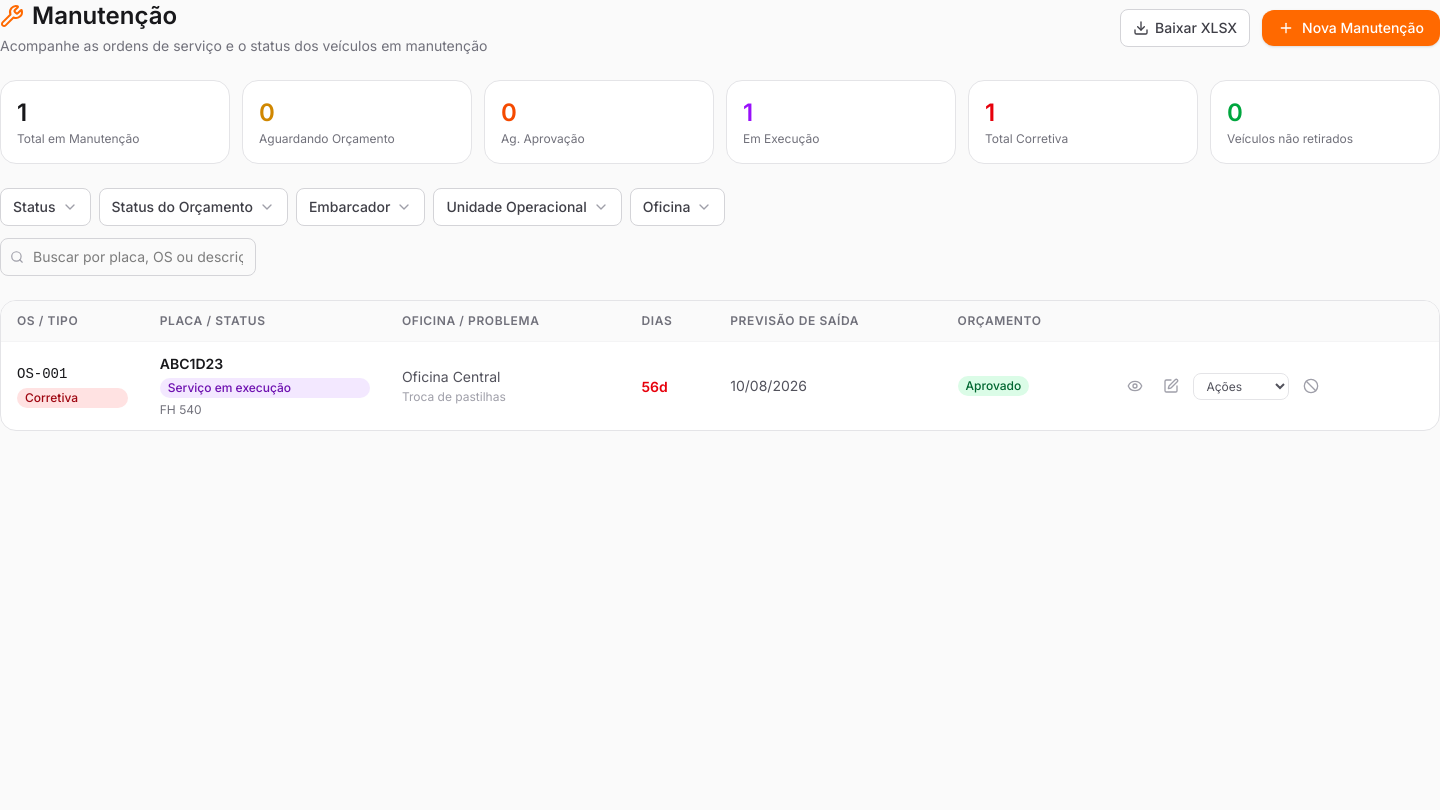
Maintenance — aviso de parcelas no cancelamento › avisa quando não consegue verificar as parcelas
Step 1. Click the button named "Cancelar OS" → {"x": 1312, "y": 386}, box x1=1298 y1=372 x2=1326 y2=400
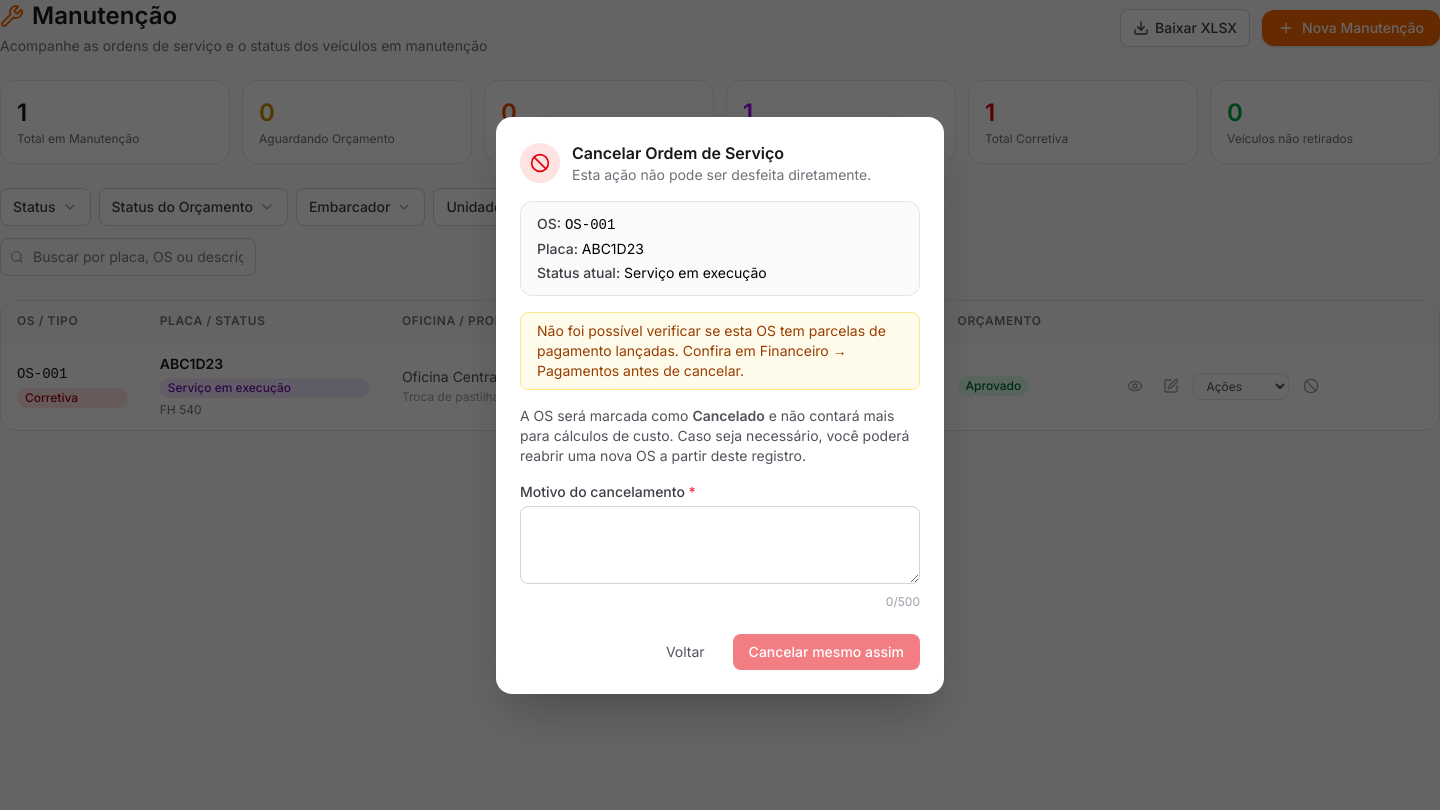
Now the text "Não foi possível verificar se esta OS tem parcelas de pagamento lançadas." is shown, box x1=537 y1=322 x2=886 y2=378
Now the button "Cancelar mesmo assim" is shown, box x1=733 y1=634 x2=920 y2=670
